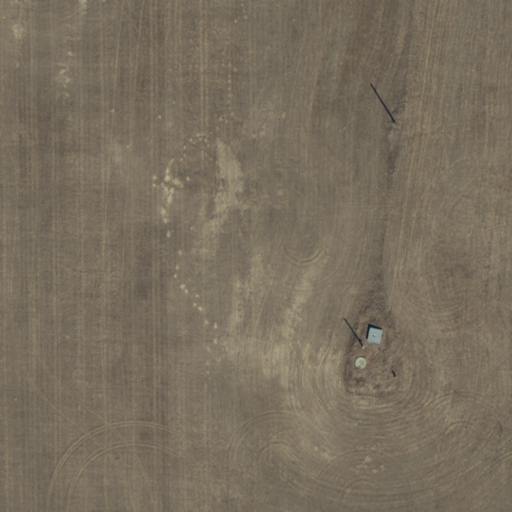DT: (382, 111, 407, 136), (354, 337, 374, 357)
